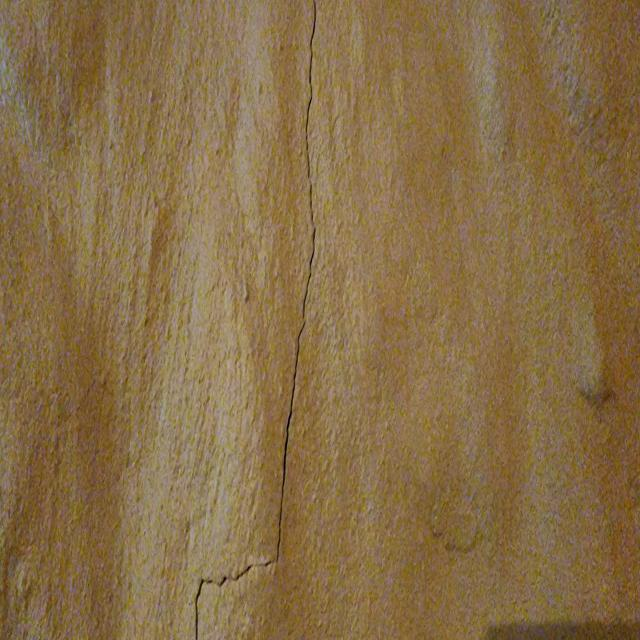SurfaceCrack: (168, 0, 371, 639)
